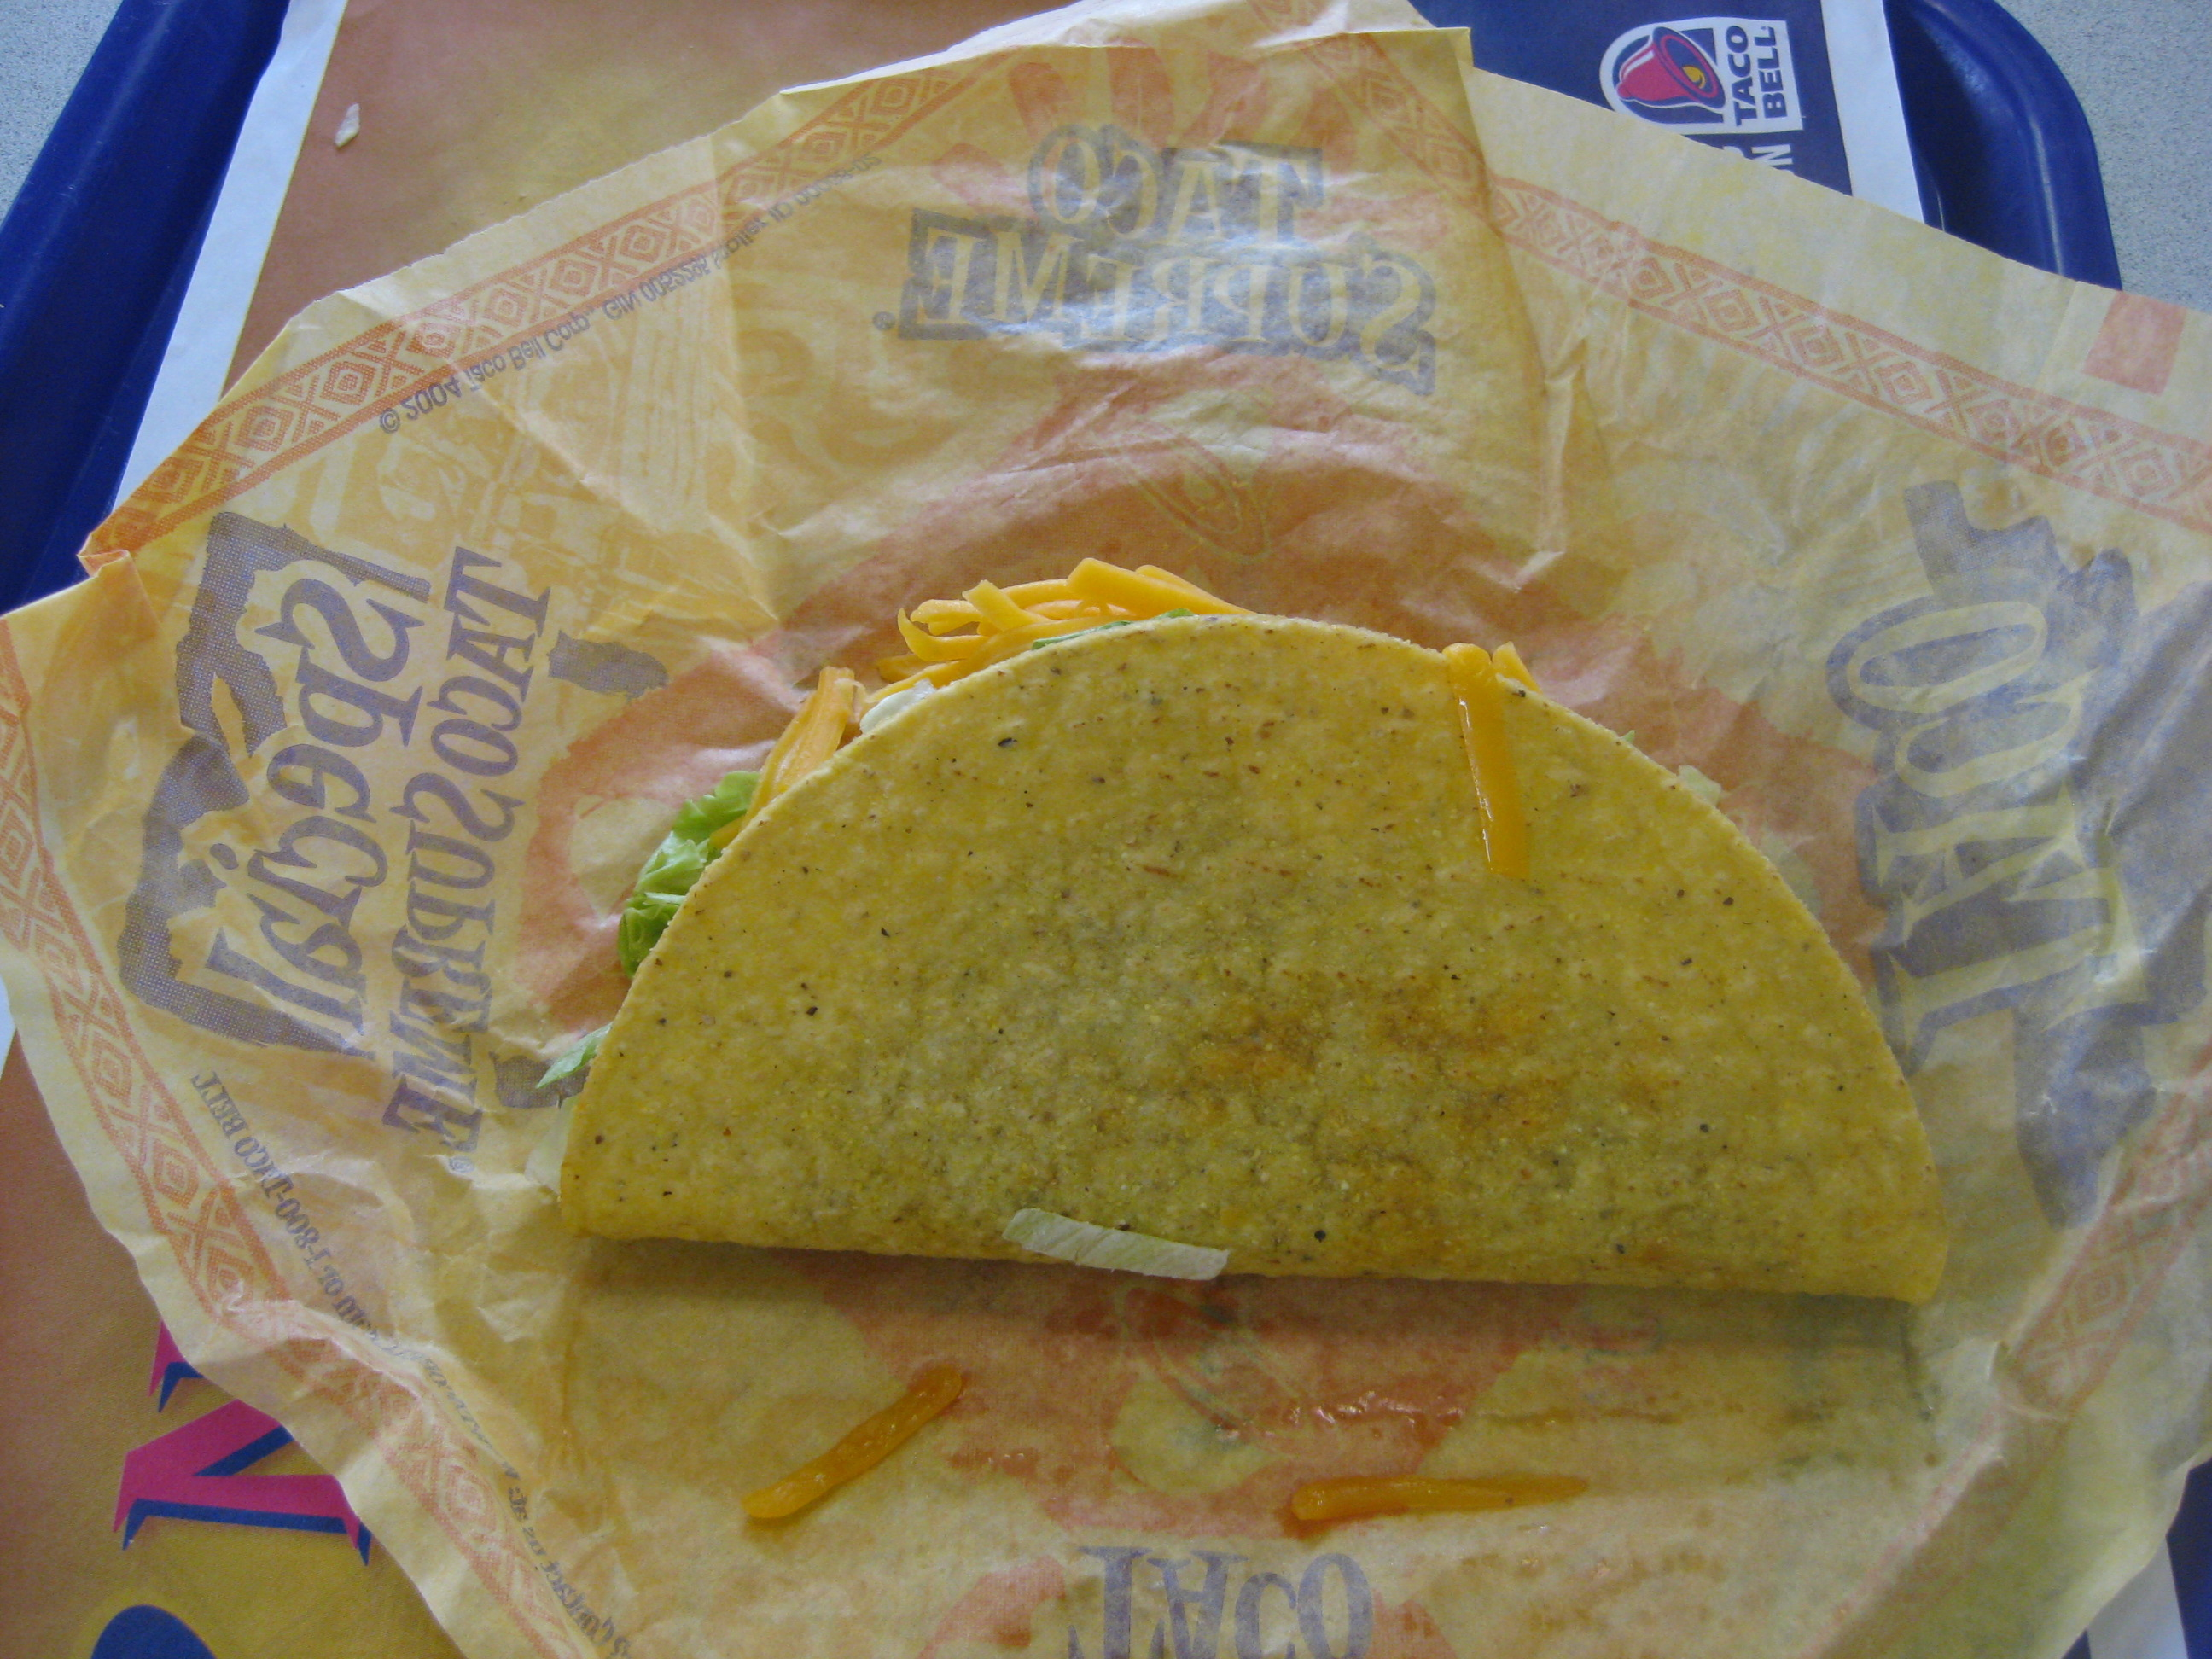taco: (545, 417, 2043, 1342)
